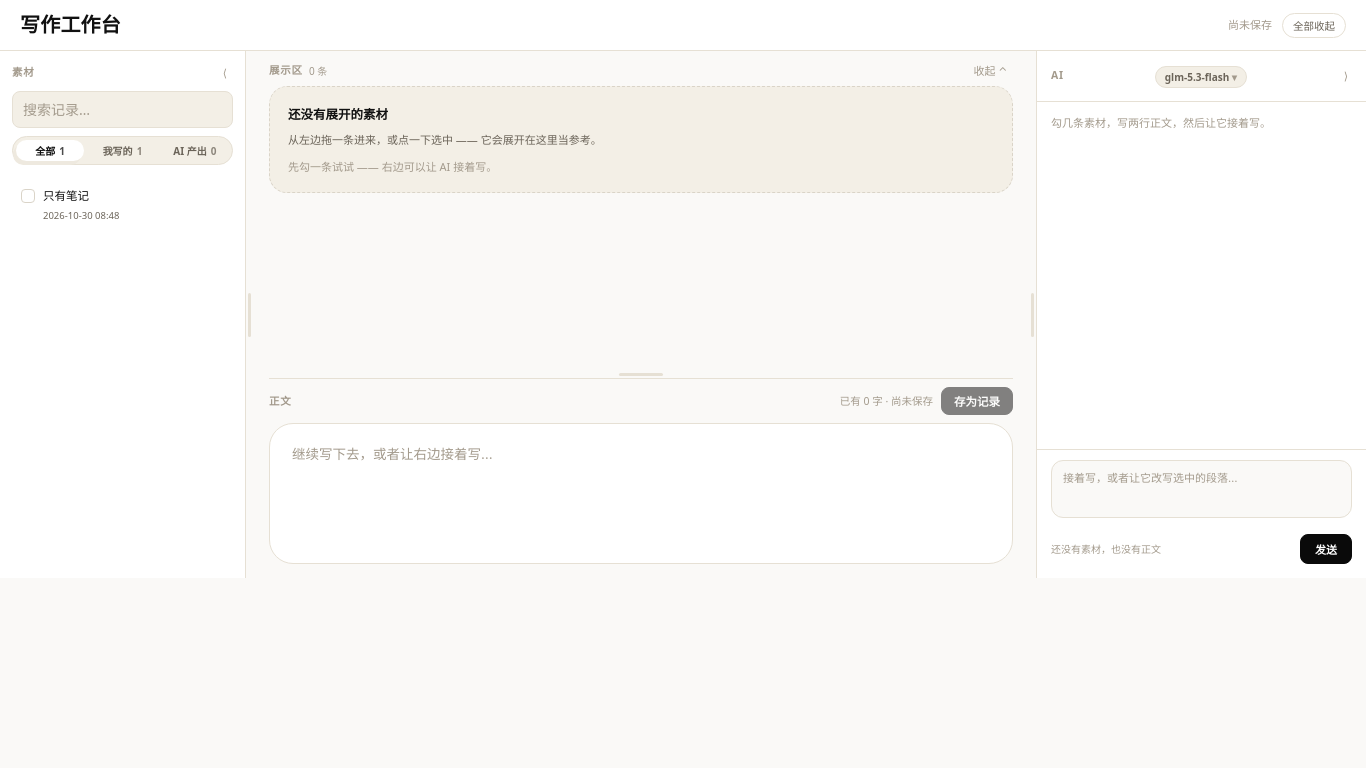
Scenario: P5 左侧来源筛选 › 「AI 产出」为空时给一句实话，不是空白
Click the button "AI 产出 0".
click(195, 151)  # box [161,140,229,161]
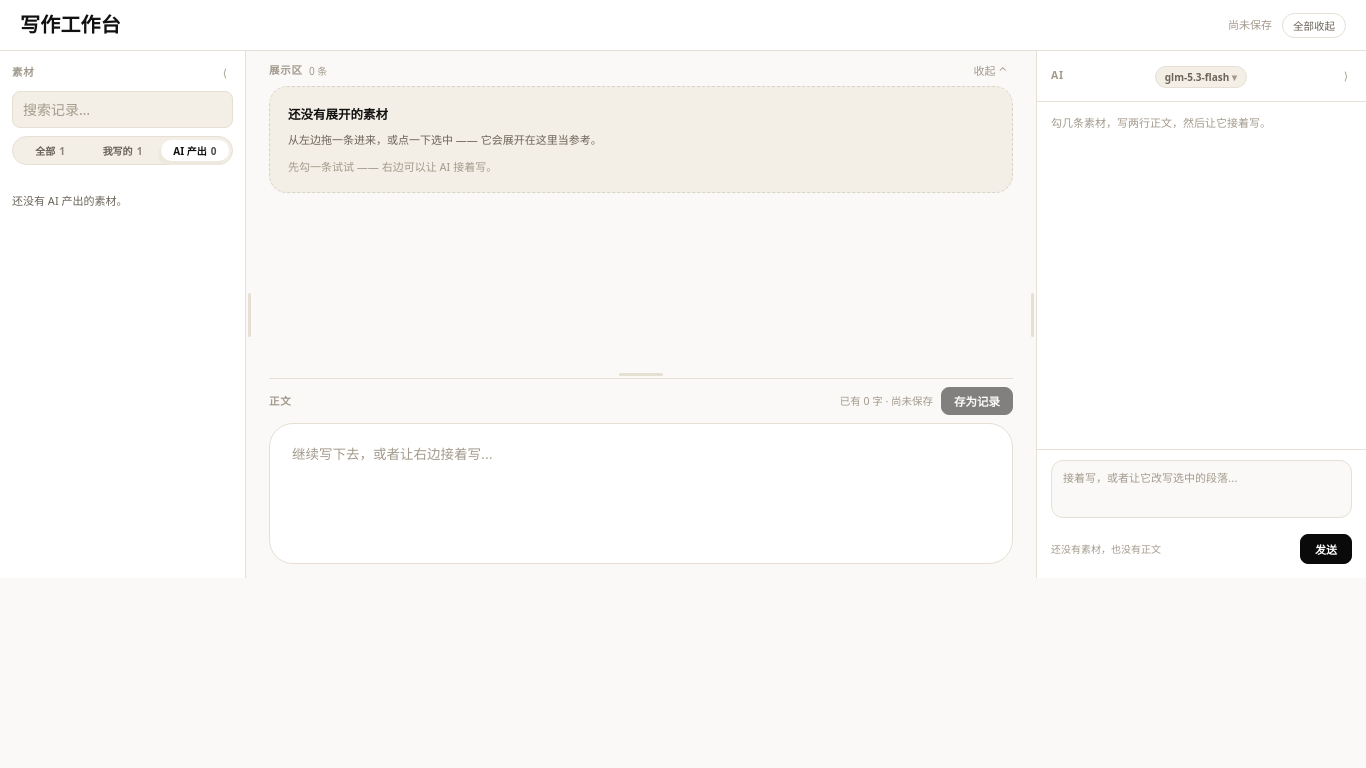
Now the text "还没有 AI 产出的素材。" is shown, box [12,193,128,208]
